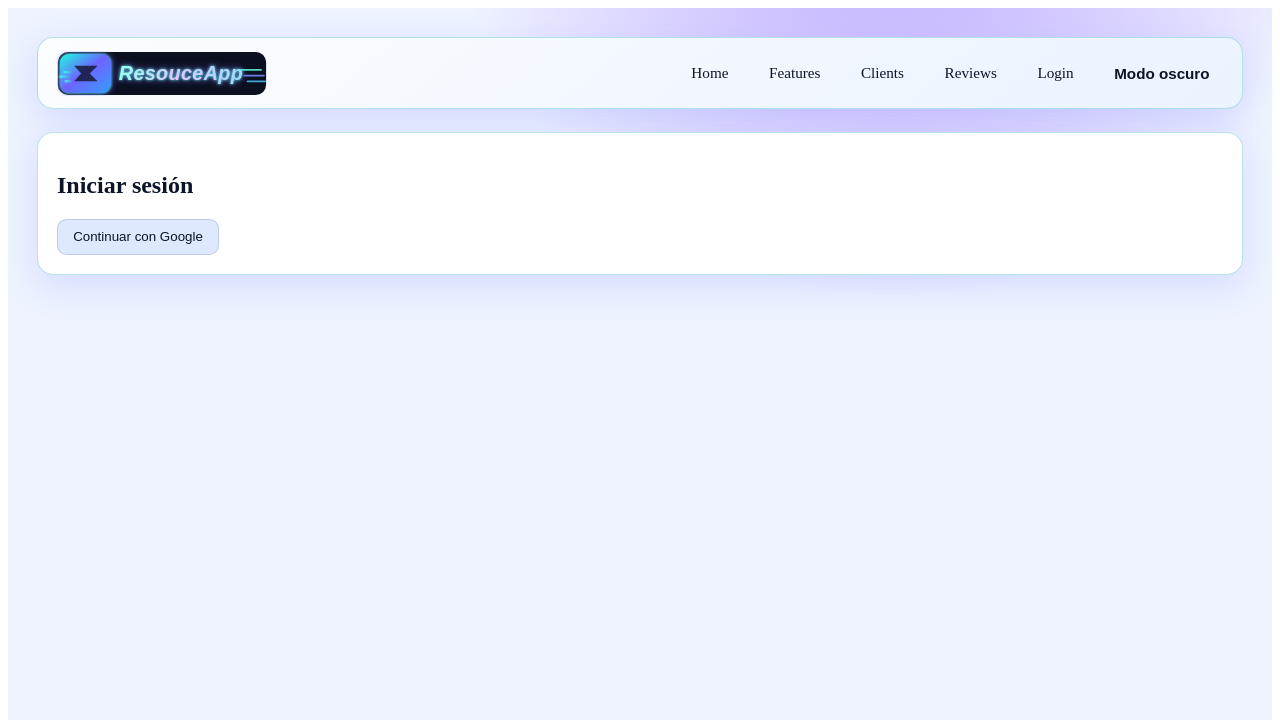
Test: App Home/Login/Projects flow › shows login error when API fails
This screenshot has width=1280, height=720.
Click the button "Continuar con Google" at (138, 237), box left=57, top=219, right=219, bottom=255
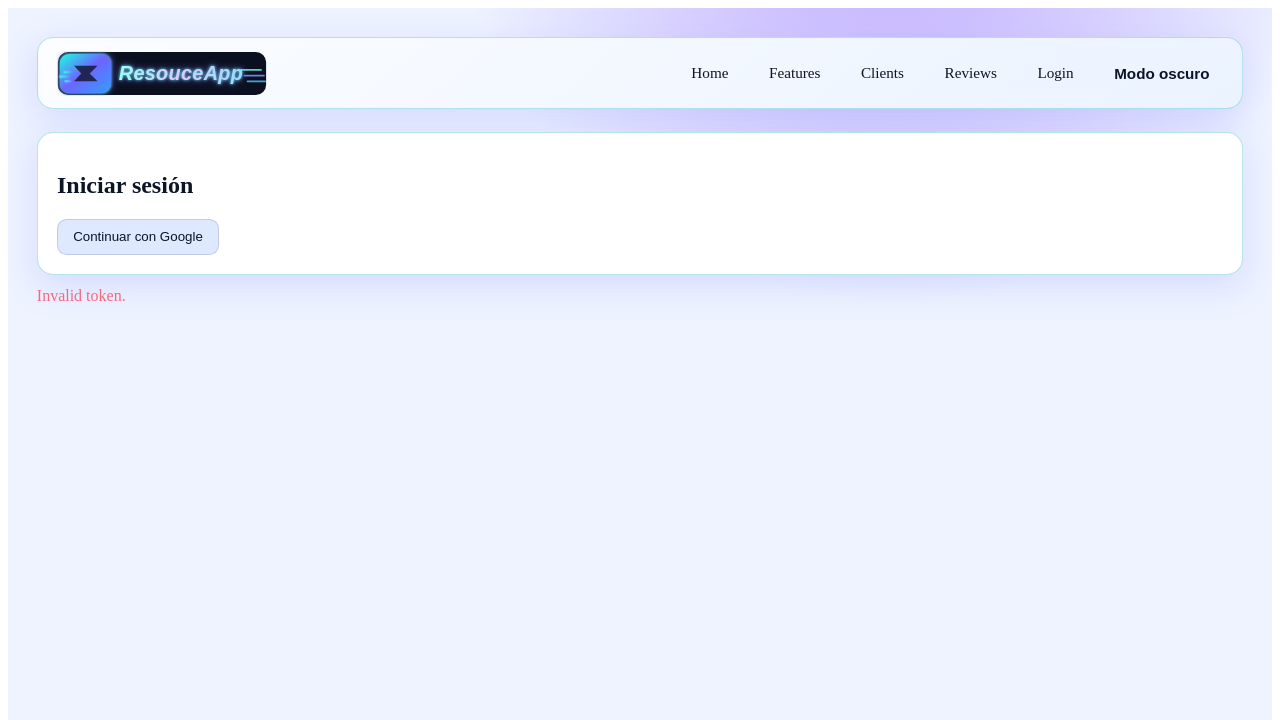
Check: the message reads "Invalid token.", box left=37, top=287, right=126, bottom=304
